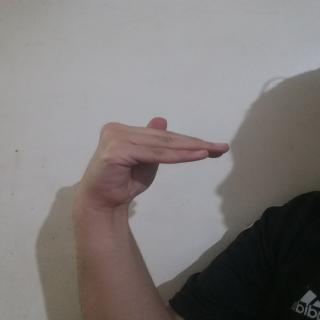KHAA: (67, 104, 242, 215)
